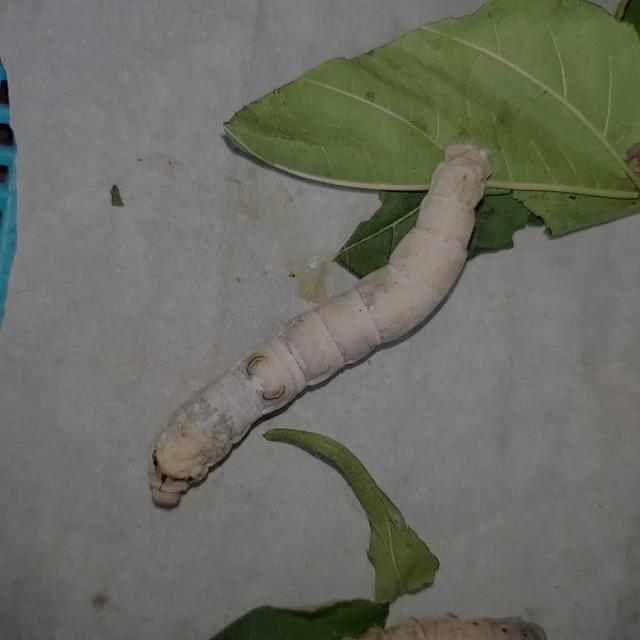Grasserie: (132, 113, 527, 547)
